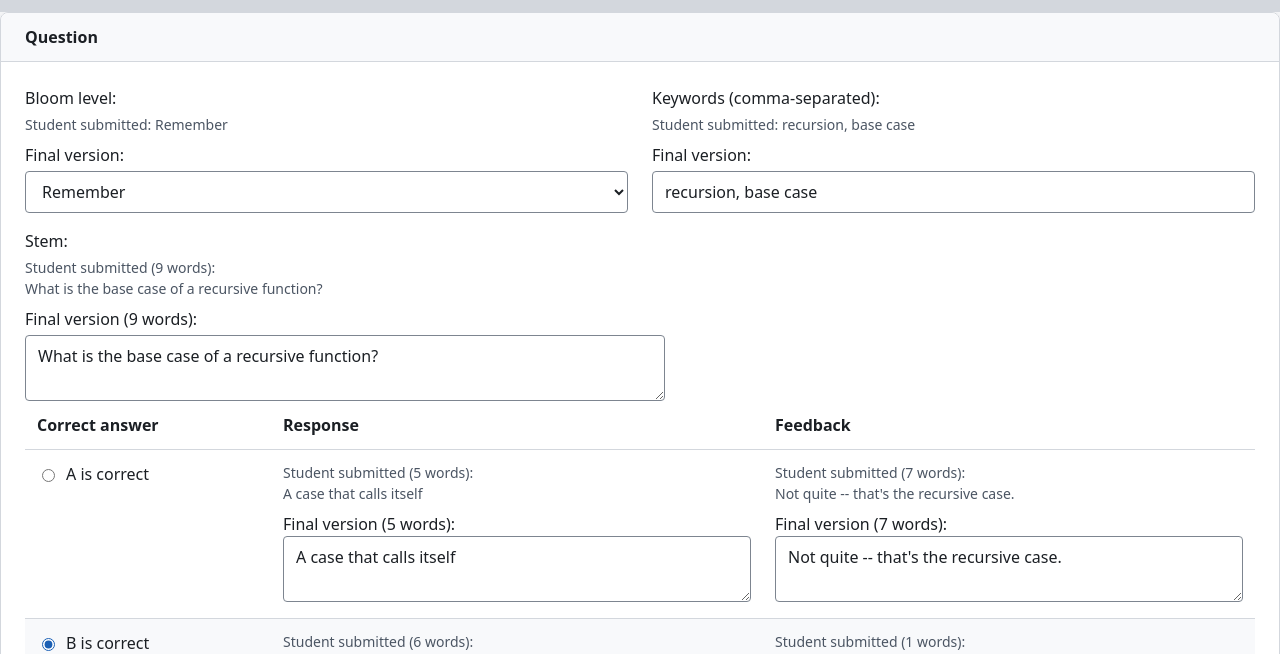
Test: Detail › shows no 'unsaved changes' indicator until something is edited
The width and height of the screenshot is (1280, 654).
Expected: the text "Unsaved changes" is not shown
In the text box labelled "Stem:": (345, 368) left=25, top=335, right=665, bottom=401, type " Extra text."
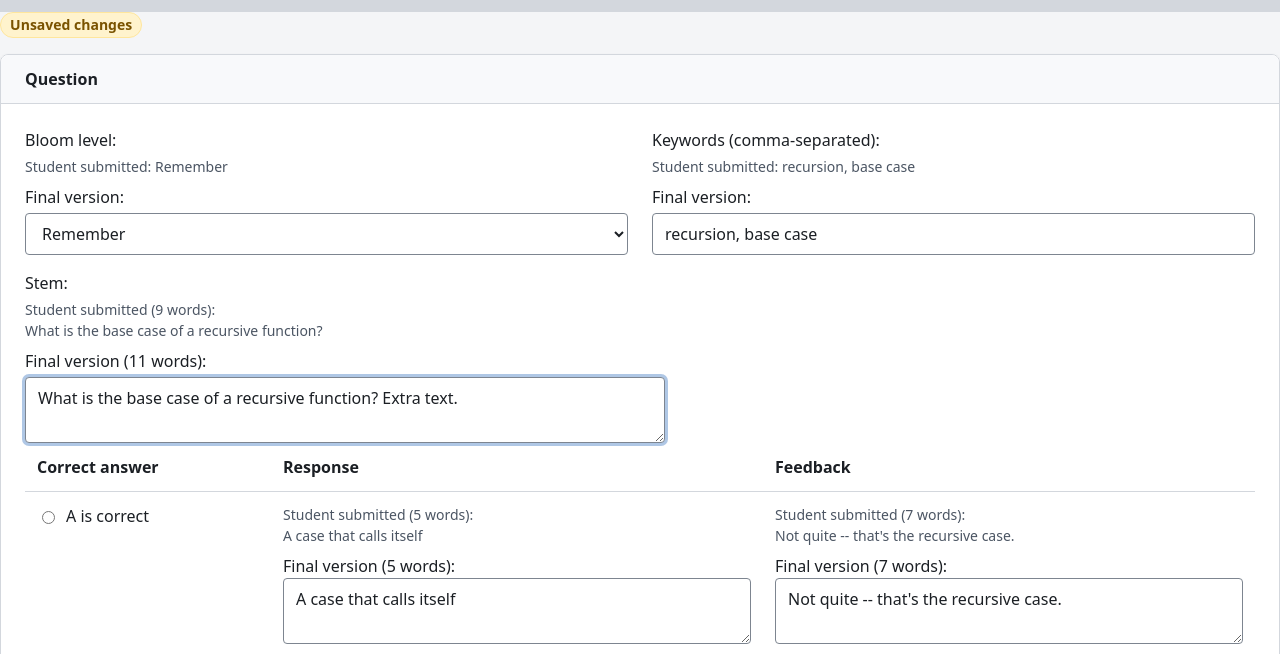
Expected: the text "Unsaved changes" is shown, left=0, top=12, right=142, bottom=38
